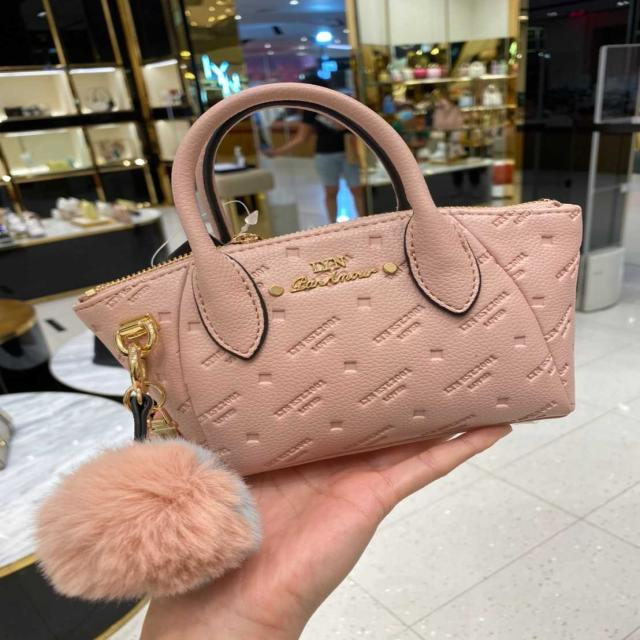Handbag: (72, 176, 590, 466)
